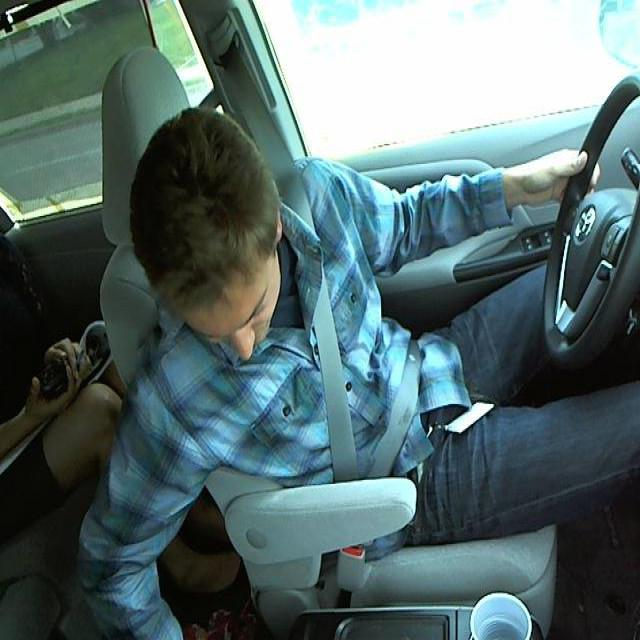seatbelt: (280, 204, 421, 477)
